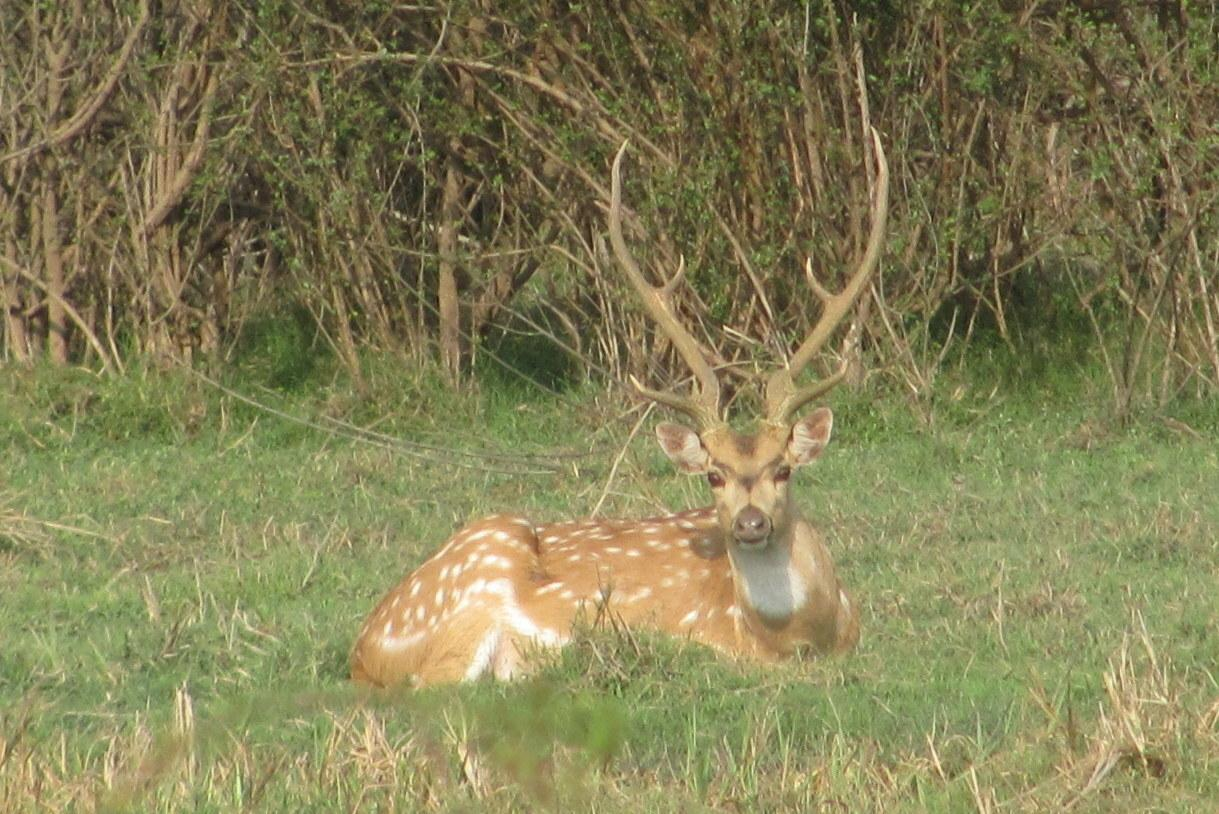Deer: (350, 60, 887, 687)
